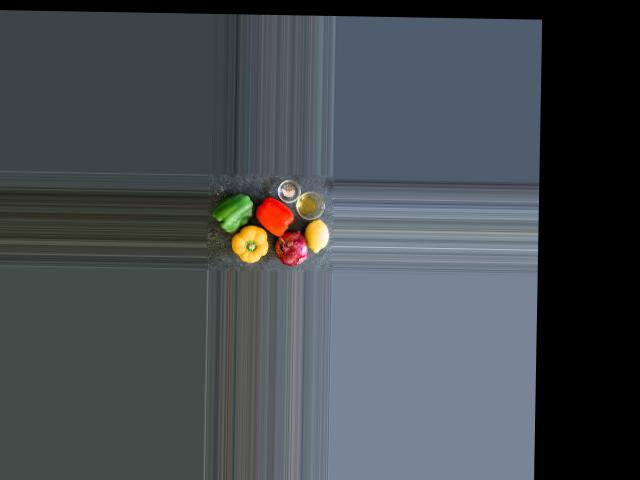bell_pepper: (255, 195, 293, 237)
